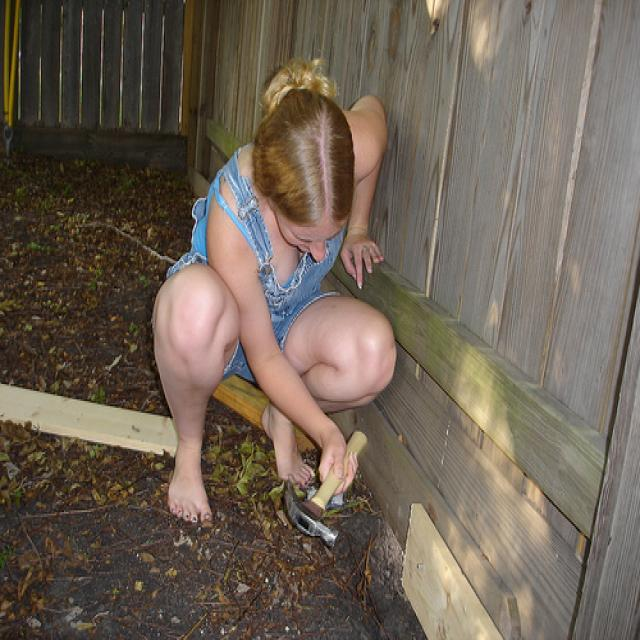hammer: (274, 425, 372, 557)
